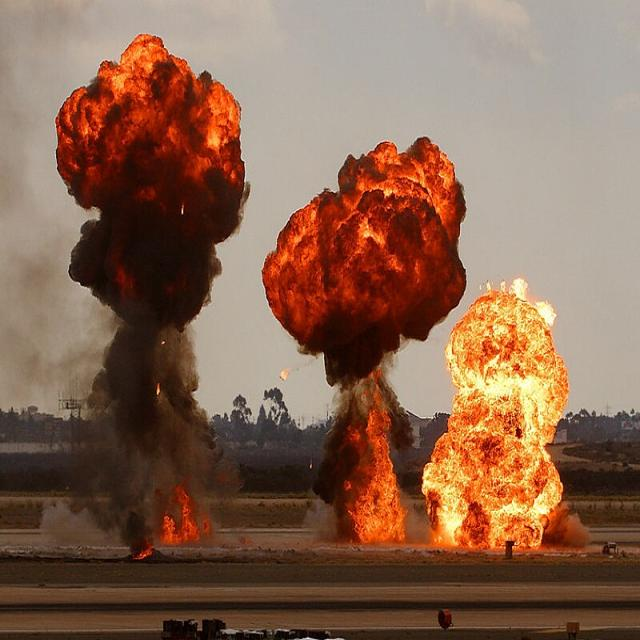fire: (268, 130, 475, 324), (450, 301, 571, 552), (96, 66, 249, 193), (352, 404, 417, 550), (136, 473, 214, 552)
